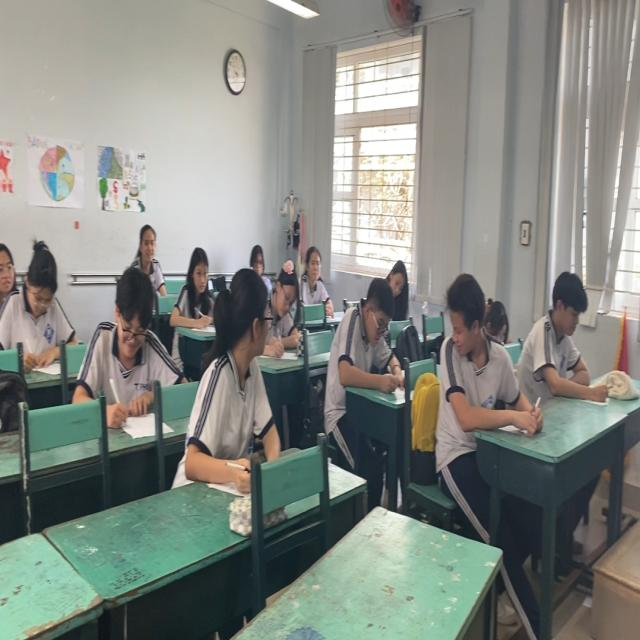cheating: (207, 246, 271, 450), (435, 270, 516, 422)
not_cheating: (330, 272, 422, 438), (94, 270, 188, 412), (0, 232, 88, 370), (530, 264, 610, 402), (258, 260, 304, 354), (176, 243, 224, 333), (304, 243, 333, 322), (138, 220, 166, 288), (382, 261, 407, 312)
